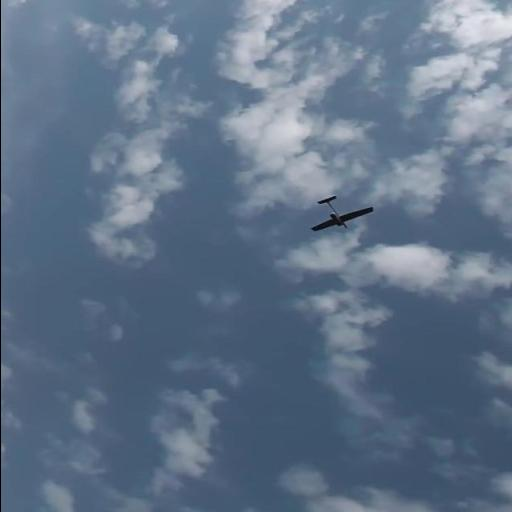uav: (308, 196, 374, 232)
